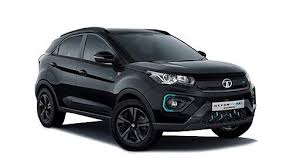Tata Nexon: (30, 24, 257, 153)
